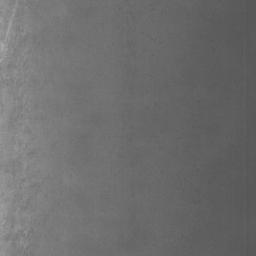Silk spot: (7, 25, 27, 60), (4, 227, 34, 248), (6, 160, 21, 179), (8, 114, 23, 130), (12, 247, 33, 256), (2, 78, 25, 86), (21, 197, 32, 211), (4, 216, 15, 228), (7, 62, 17, 69)
